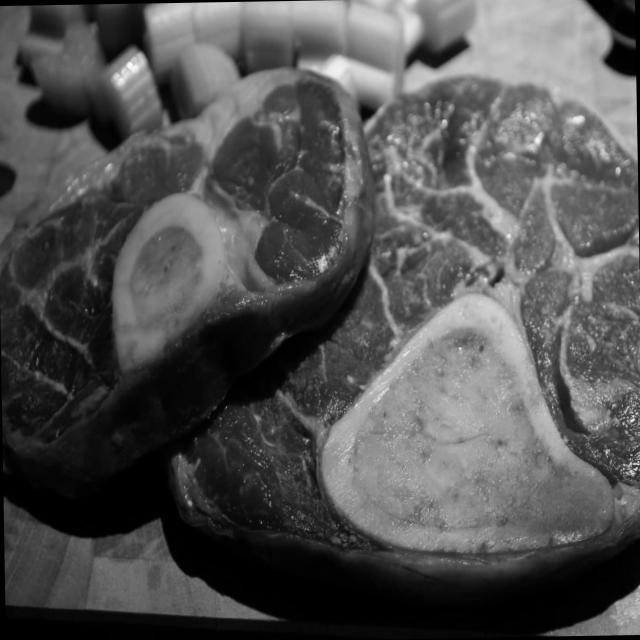chan gio: (158, 113, 640, 604)
